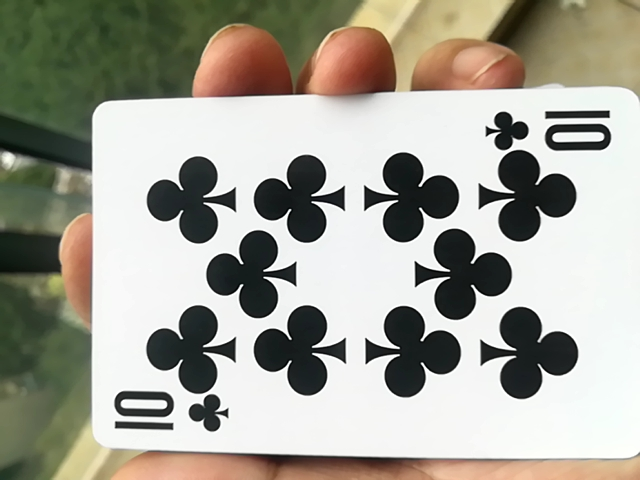mh 10: (81, 111, 635, 470)
